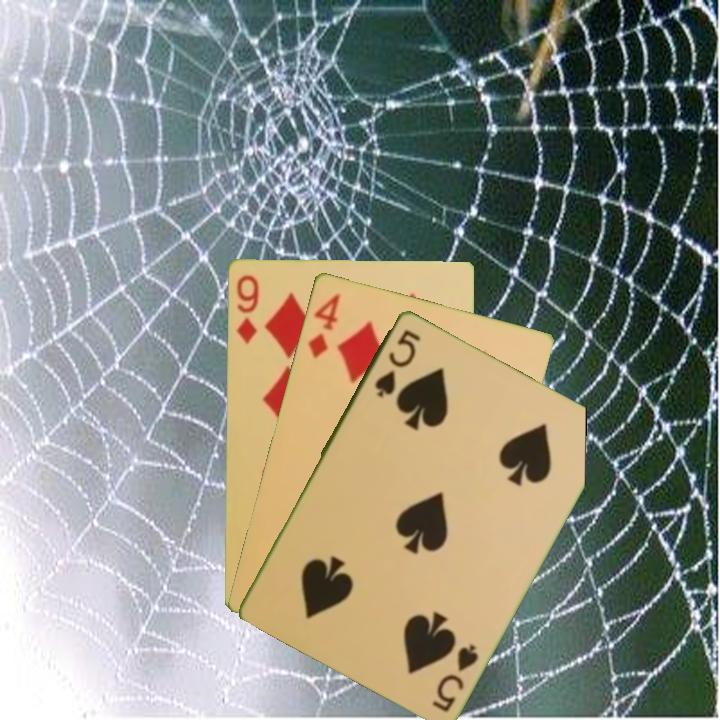4d: (304, 289, 343, 361)
5s: (370, 325, 424, 400), (428, 640, 482, 715)
9d: (232, 271, 262, 347)
